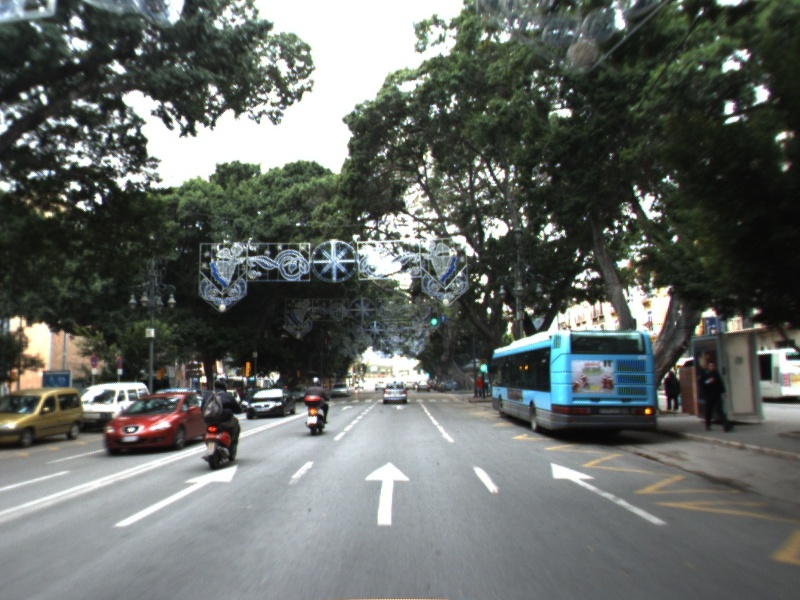STRAIGHT: (112, 462, 241, 528), (548, 460, 672, 528), (362, 460, 413, 528)
